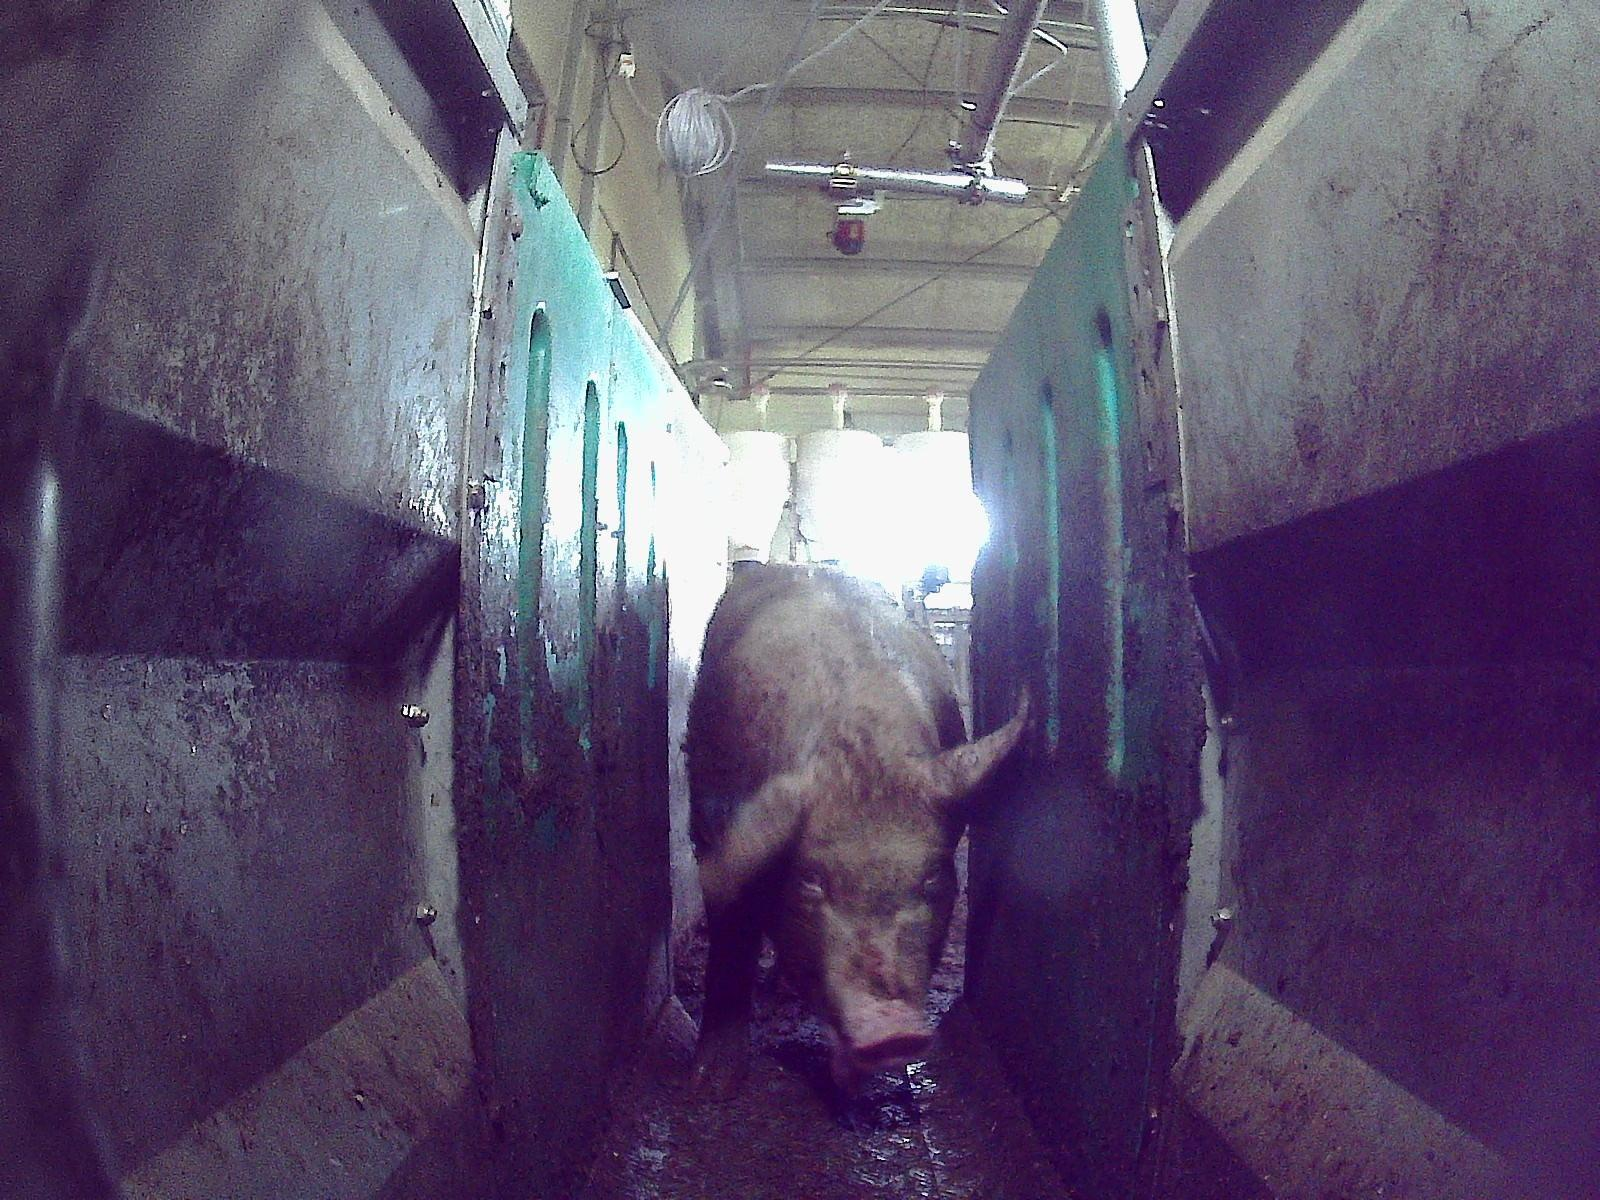Face: (773, 744, 958, 1069)
